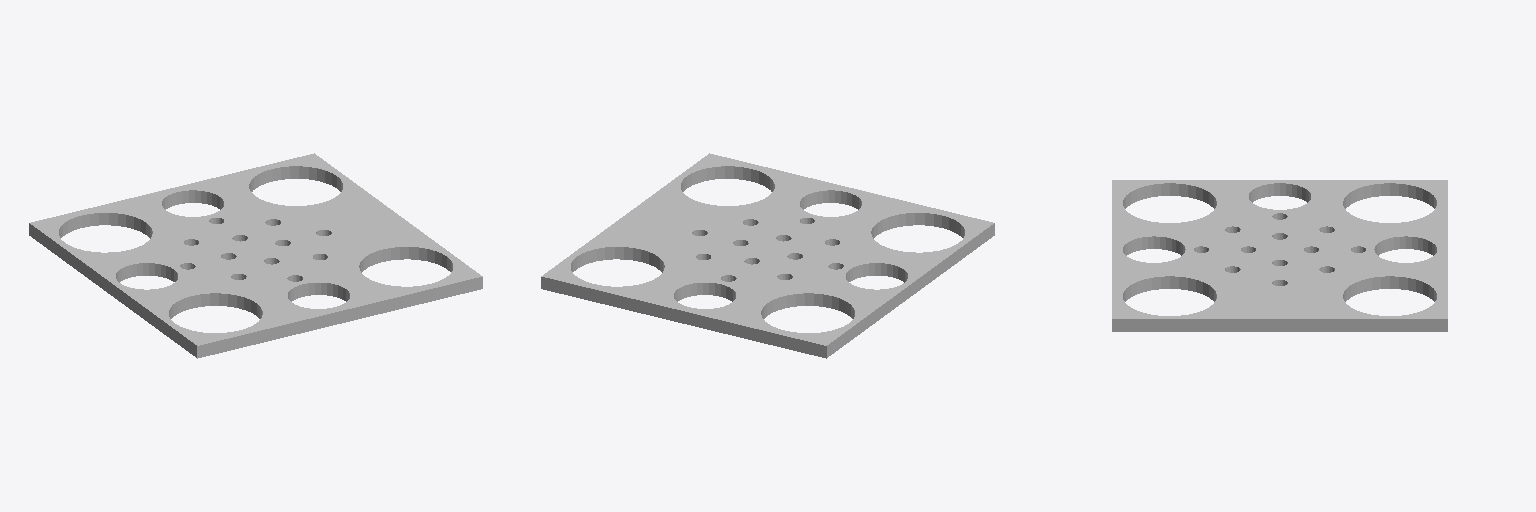
Rendered from baseWithHole3.obj.
3 renders of one model, left to right at view 1: azimuth 30°, elevation 25°; view 2: azimuth 150°, elevation 25°; view 3: azimuth 270°, elevation 25°, orthographic.
Parts seen in each view (by area): view 1: 立方体; view 2: 立方体; view 3: 立方体.
Part boxes in pixels (bbox=[...]): 立方体: bbox=[29, 153, 482, 358]; 立方体: bbox=[541, 153, 994, 358]; 立方体: bbox=[1112, 180, 1447, 331].
Bounding box in the file's own units: 20.94 × 0.8823 × 21.39.